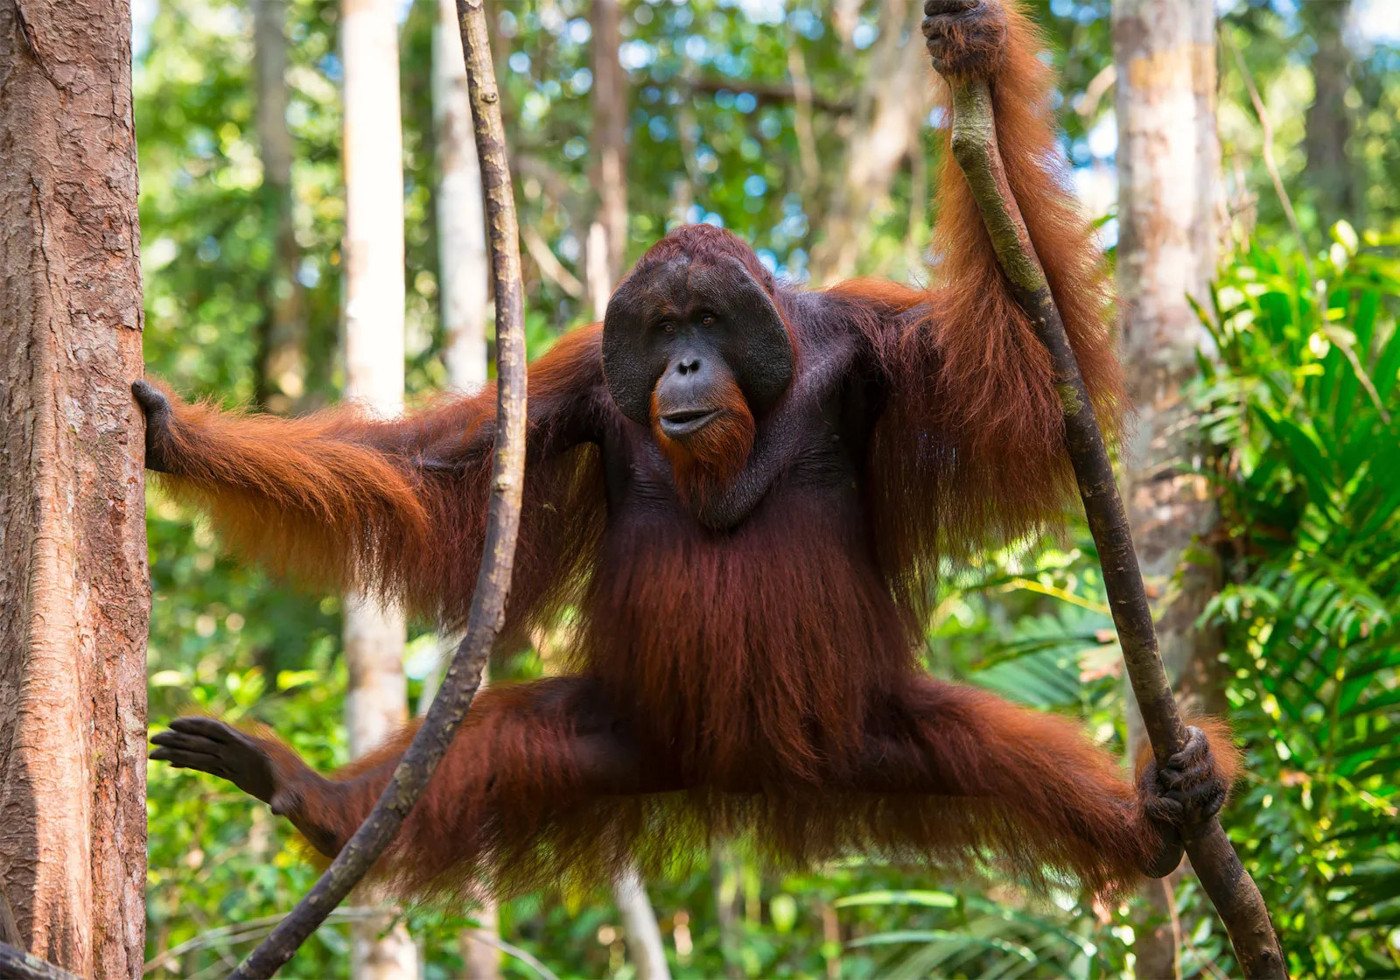ape: (132, 0, 1247, 900)
